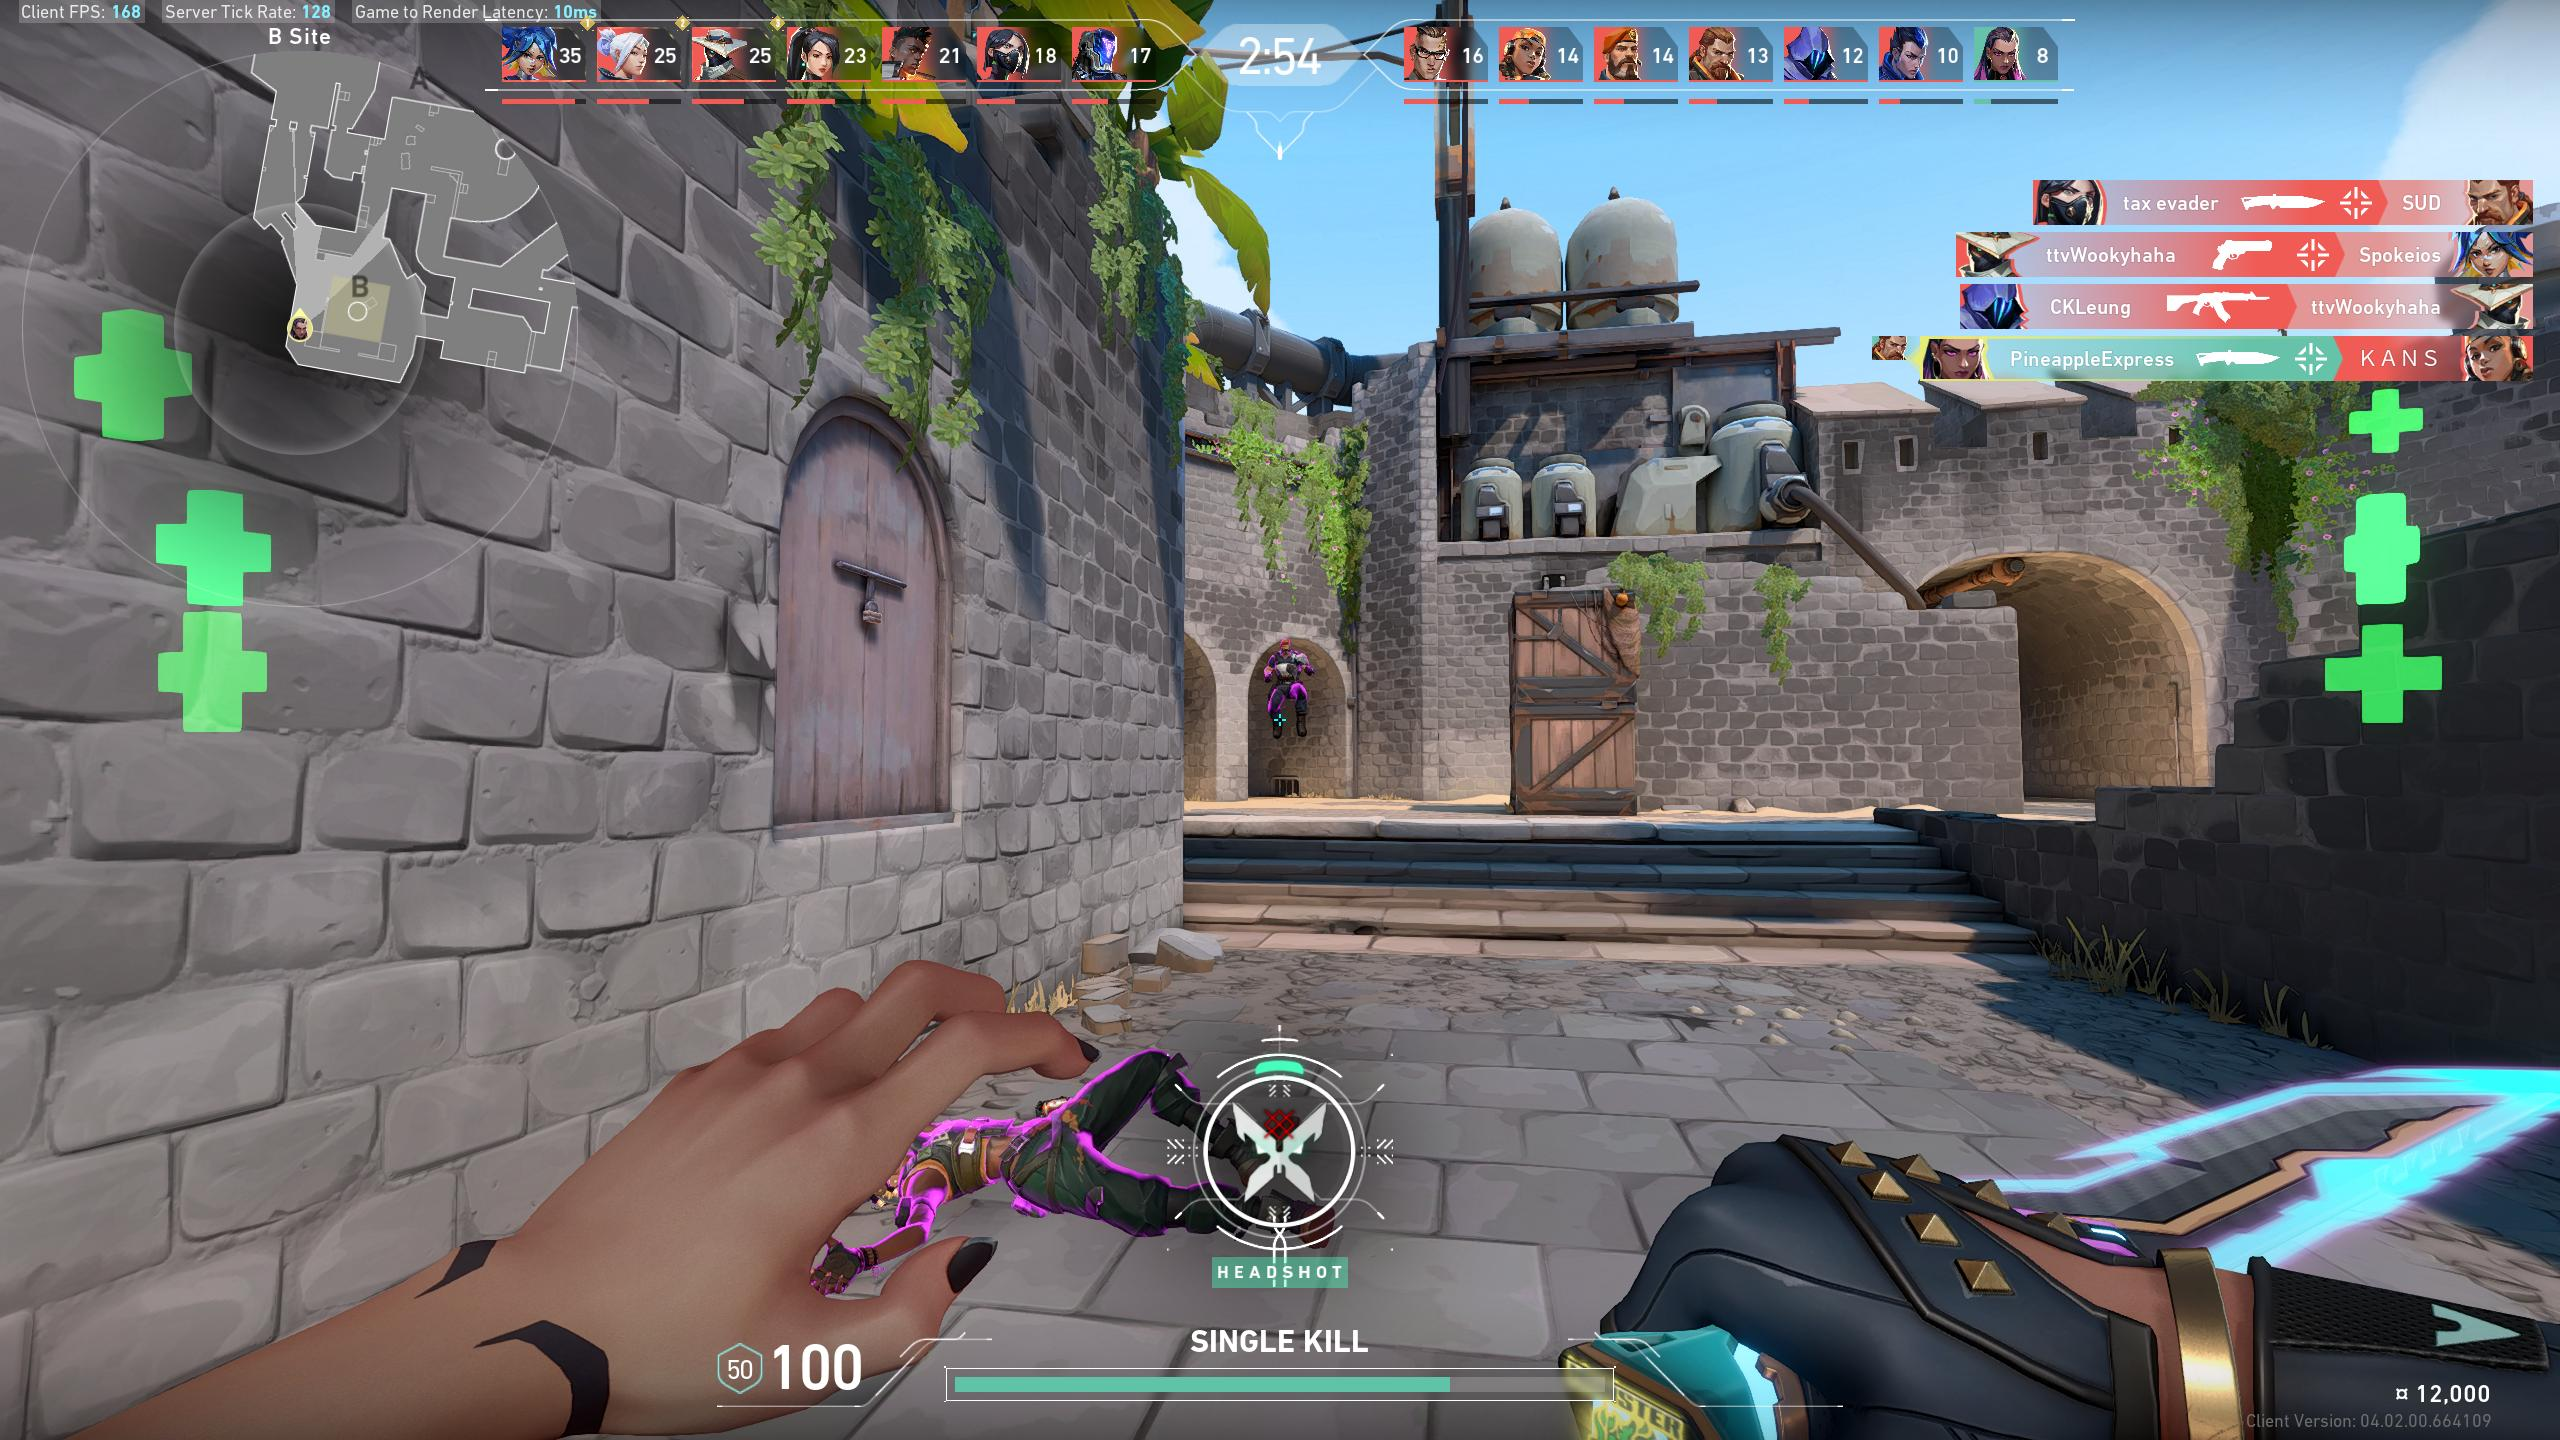enemyBody: (1276, 656, 1296, 682)
enemyHead: (1282, 642, 1289, 652)
